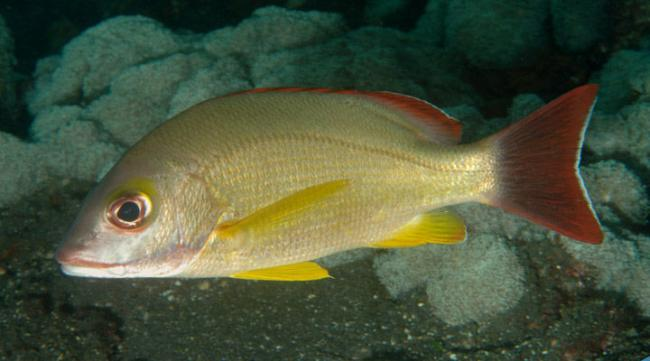fish: (55, 83, 608, 282)
